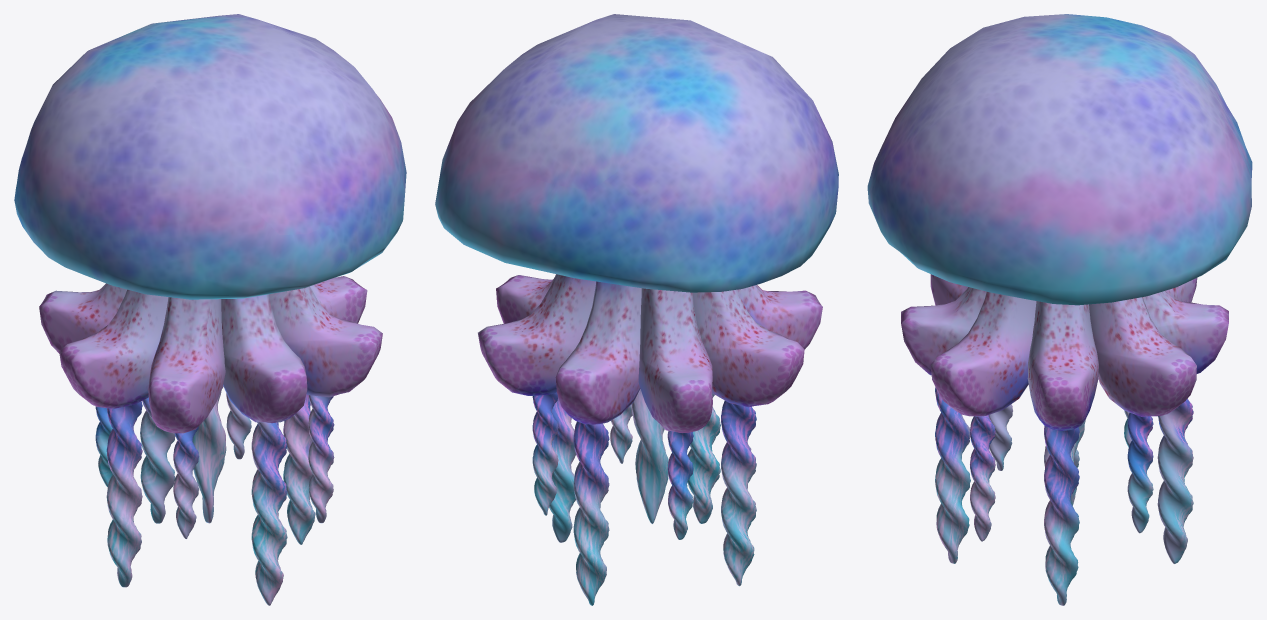
Rendered from jellyfish4_edit_for_FBX.fbx.
The picture shows the model from 3 angles, left to right: view 1: azimuth 30°, elevation 25°; view 2: azimuth 150°, elevation 25°; view 3: azimuth 270°, elevation 25°; orthographic projection.
Visible parts, largest first — view 1: Jellytop, Tentacle7, Tentacle, Tentacle3, Tentacle4, Tentacletrill, Tentacletrill3, Tentacle6, Tentacletrill2, Tentacletrill1, Tentacletrill4, Tentacletrill8 (+4 smaller); view 2: Jellytop, Tentacle6, Tentacle2, Tentacle3, Tentacle5, Tentacletrill1, Tentacletrill3, Tentacle7, Tentacletrill8, Tentacletrill2, Tentacletrill5, Tentacletrill (+3 smaller); view 3: Jellytop, Tentacle4, Tentacle5, Tentacle1, Tentacletrill2, Tentacletrill, Tentacletrill1, Tentacle2, Tentacle, Tentacletrill4, Tentacletrill5, Tentacletrill6 (+1 smaller).
Boxes of the visible parts, box(x1,y1,x2,y2) form: Jellytop: box(14, 14, 406, 299); Tentacle7: box(148, 297, 225, 433); Tentacle: box(221, 294, 307, 423); Tentacle3: box(59, 289, 168, 408); Tentacle4: box(269, 286, 382, 397); Tentacletrill: box(251, 422, 287, 605); Tentacletrill3: box(106, 401, 142, 587); Tentacle6: box(39, 283, 126, 353); Tentacletrill2: box(283, 394, 315, 544); Tentacletrill1: box(140, 397, 175, 523); Tentacletrill4: box(308, 395, 334, 523); Tentacletrill8: box(192, 386, 226, 523); Jellytop: box(435, 14, 838, 292); Tentacle6: box(638, 288, 712, 432); Tentacle2: box(555, 281, 641, 424); Tentacle3: box(693, 289, 804, 407); Tentacle5: box(478, 274, 595, 395); Tentacletrill1: box(573, 421, 609, 605); Tentacletrill3: box(721, 400, 756, 586); Tentacle7: box(737, 285, 822, 349); Tentacletrill8: box(631, 389, 668, 523); Tentacletrill2: box(549, 397, 576, 542); Tentacletrill5: box(532, 392, 558, 515); Tentacletrill: box(687, 393, 720, 523); Jellytop: box(867, 14, 1252, 305); Tentacle4: box(930, 292, 1036, 416); Tentacle5: box(1089, 297, 1196, 416); Tentacle1: box(1027, 301, 1098, 430); Tentacletrill2: box(1044, 426, 1079, 605); Tentacletrill: box(935, 387, 970, 563); Tentacletrill1: box(1157, 398, 1193, 563); Tentacle2: box(1143, 290, 1228, 373); Tentacle: box(901, 287, 986, 375); Tentacletrill4: box(970, 415, 995, 541); Tentacletrill5: box(1127, 412, 1153, 533); Tentacletrill6: box(989, 404, 1012, 470).
Bounding box in the file's own units: 135 × 200 × 133.
